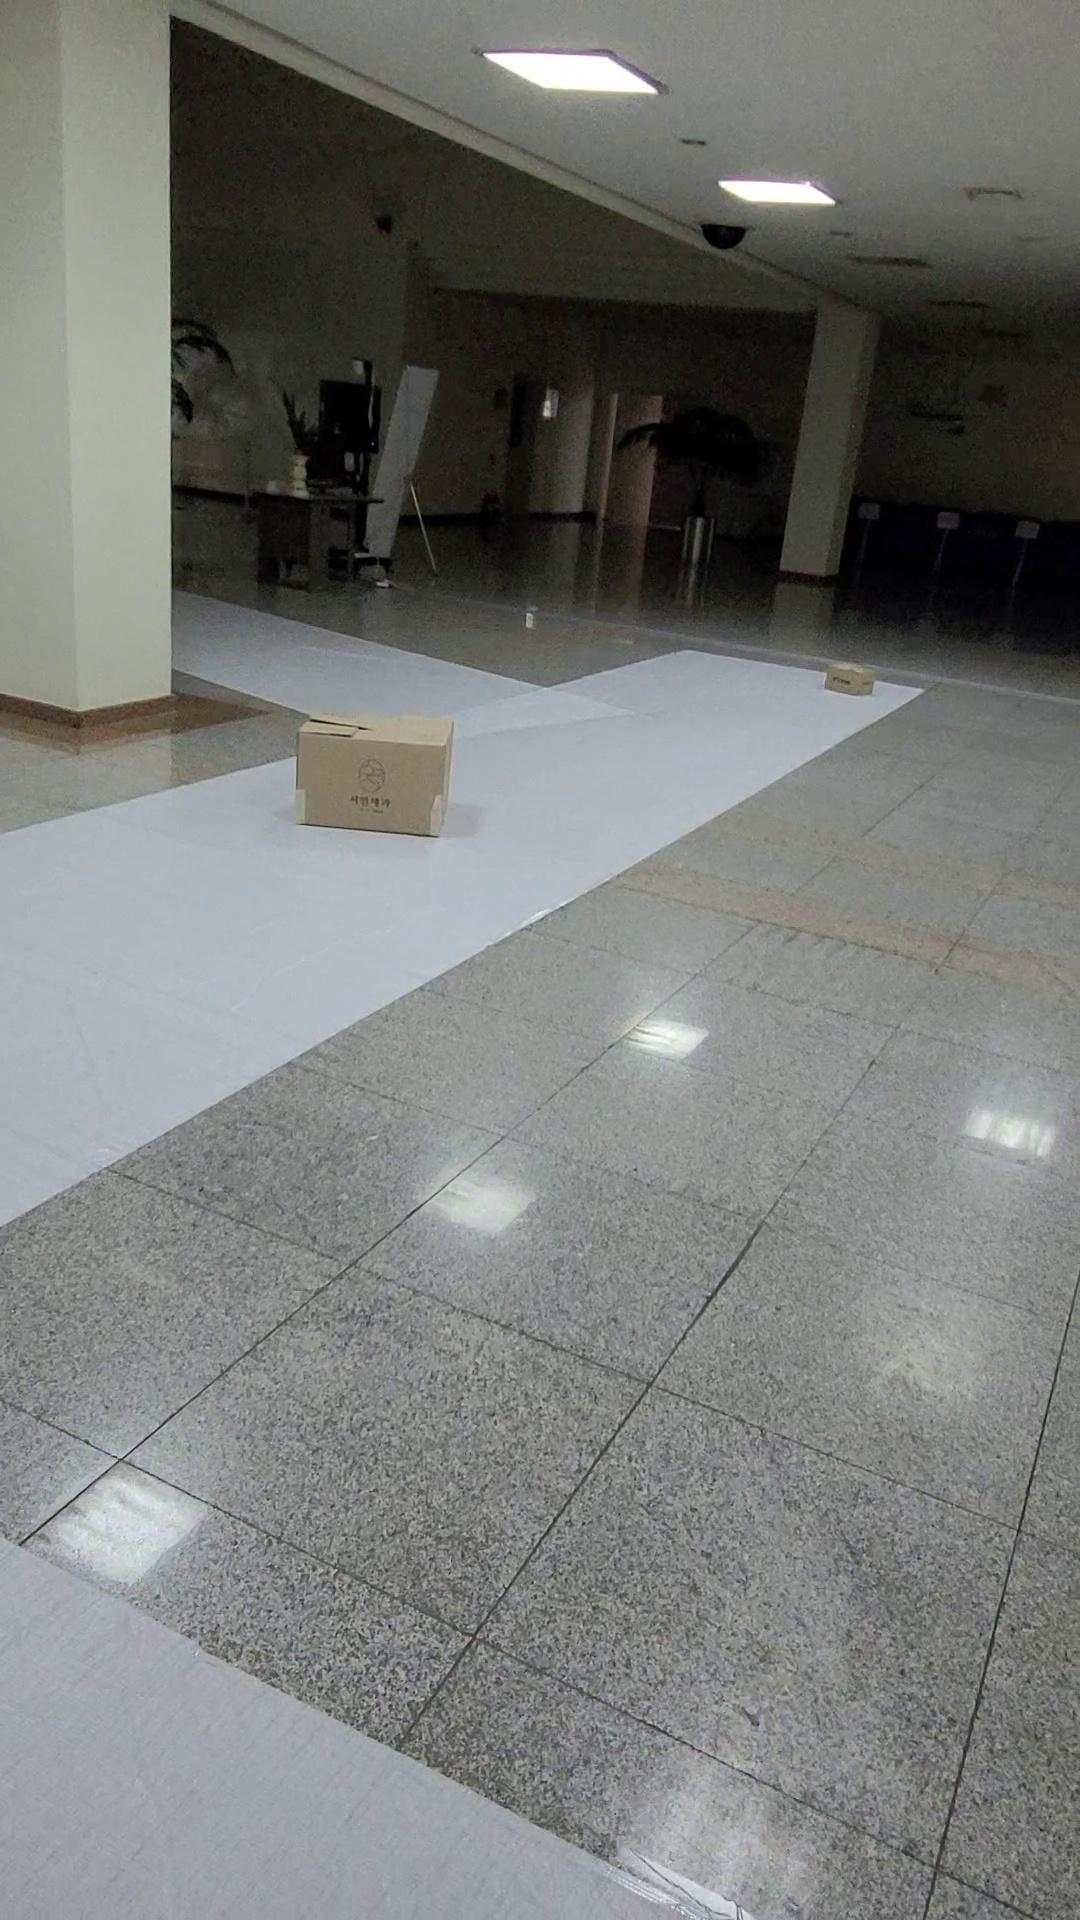Box: (291, 698, 465, 843), (816, 658, 876, 705)
